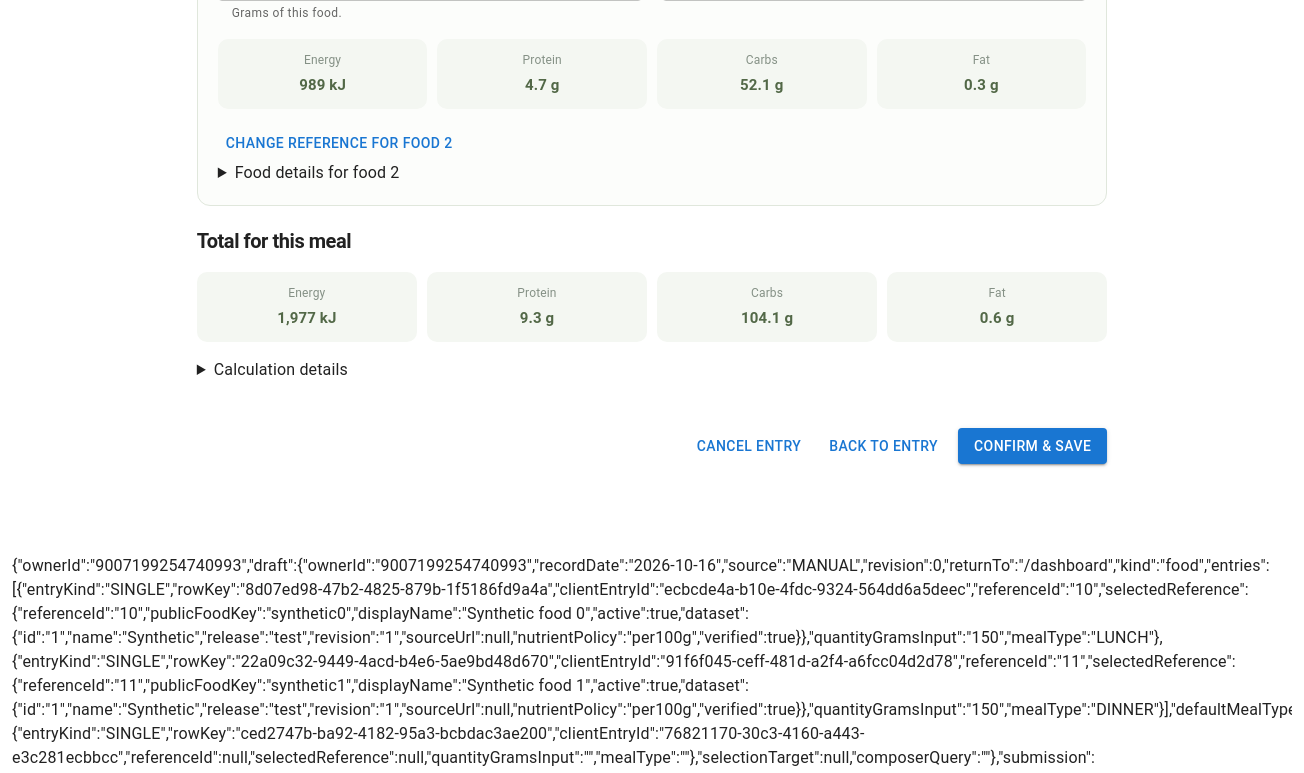
Test case: never navigates for a 2xx body whose receipt omits the reviewed roots
(page scrolled)
Step 1. Click the button "Confirm & save" → (1033, 446), box [958,428,1107,464]
(page scrolled)
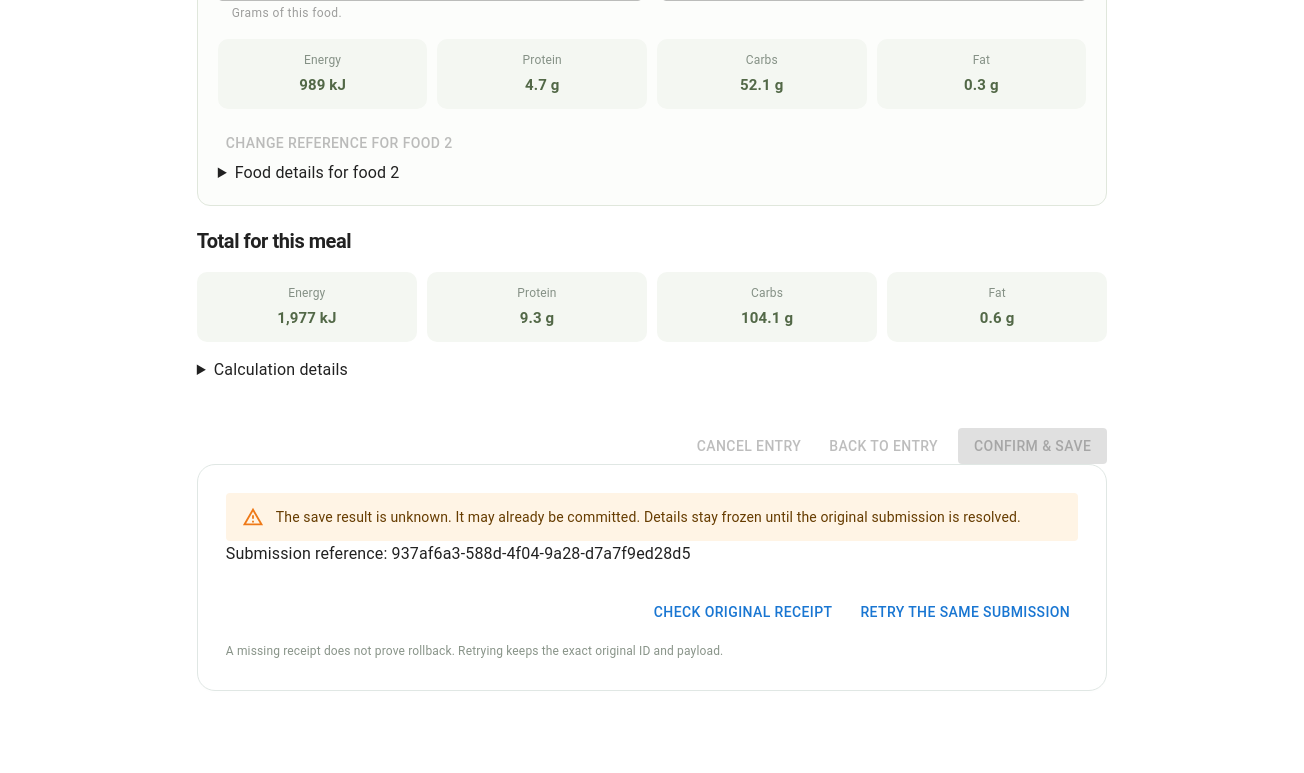
Now the button "Check original receipt" is shown, box [646,594,840,630]
